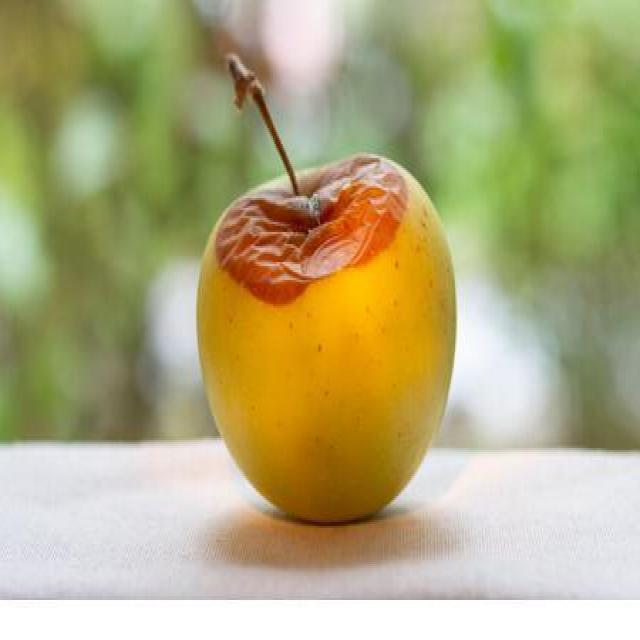Rotten: (191, 153, 472, 551)
